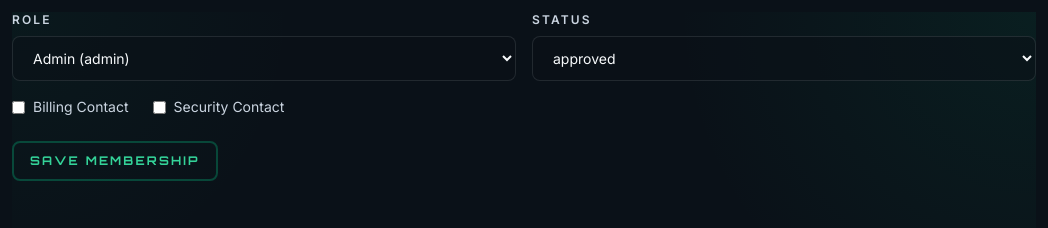
Scenario: MembershipForm (USE-P2-010) › surfaces save failures as an alert
Click the button "Save Membership".
click(115, 161)  # box [12,141,218,181]
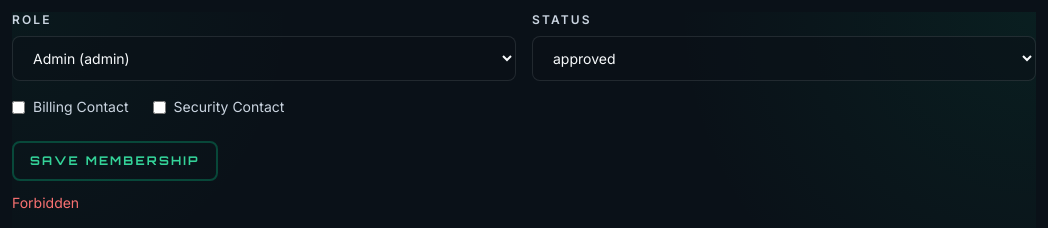
Expected: the message reads "Forbidden", [12,194,79,211]
